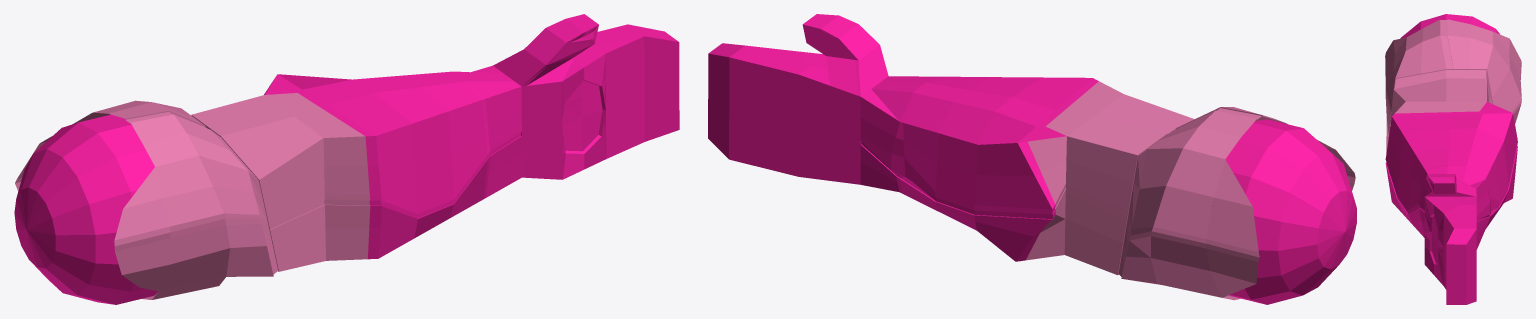
Rendered from arm_robot.fbx.
The picture shows the model from 3 angles, left to right: view 1: azimuth 30°, elevation 25°; view 2: azimuth 150°, elevation 25°; view 3: azimuth 270°, elevation 25°; orthographic projection. The views are drawn at different scales.
Visible parts, largest first — view 1: arm; view 2: arm; view 3: arm.
Boxes of the visible parts, x1,y1,x2,y2 form: arm: (14, 14, 679, 304); arm: (708, 14, 1356, 304); arm: (1385, 14, 1521, 304).
Bounding box in the file's own units: 0.6081 × 0.1605 × 0.1616.
